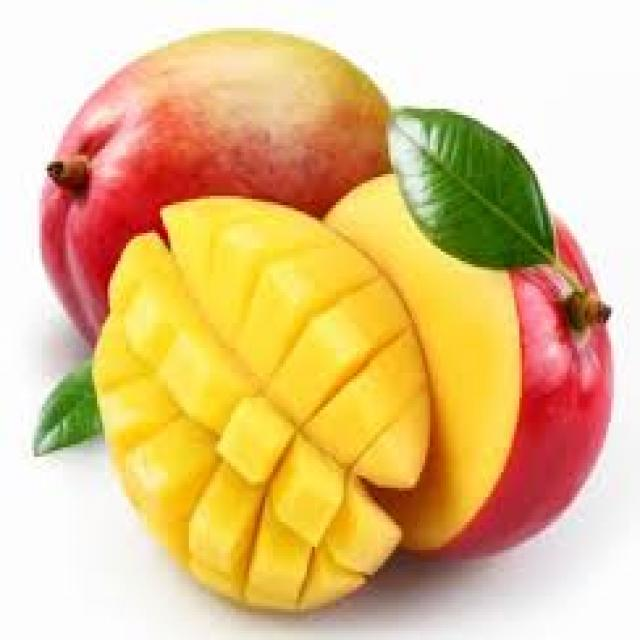organic waste: (89, 193, 425, 612), (318, 168, 612, 559), (37, 25, 388, 348), (386, 106, 554, 267), (32, 351, 102, 457)
